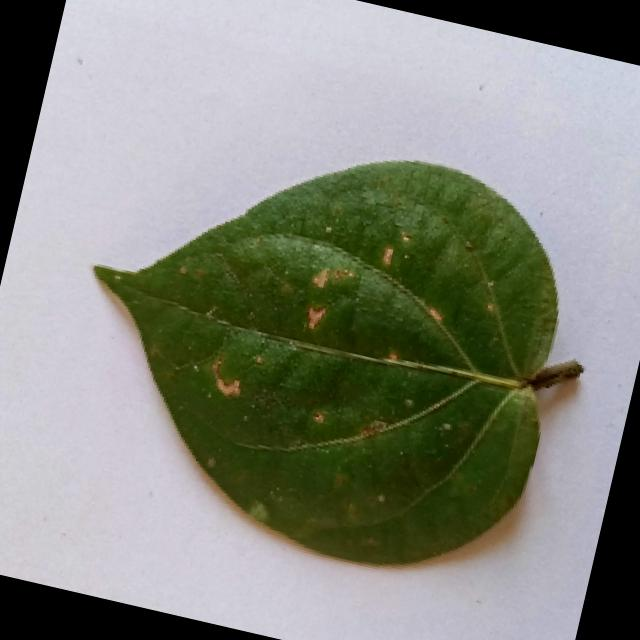pollu-disease: (1, 72, 640, 627)
